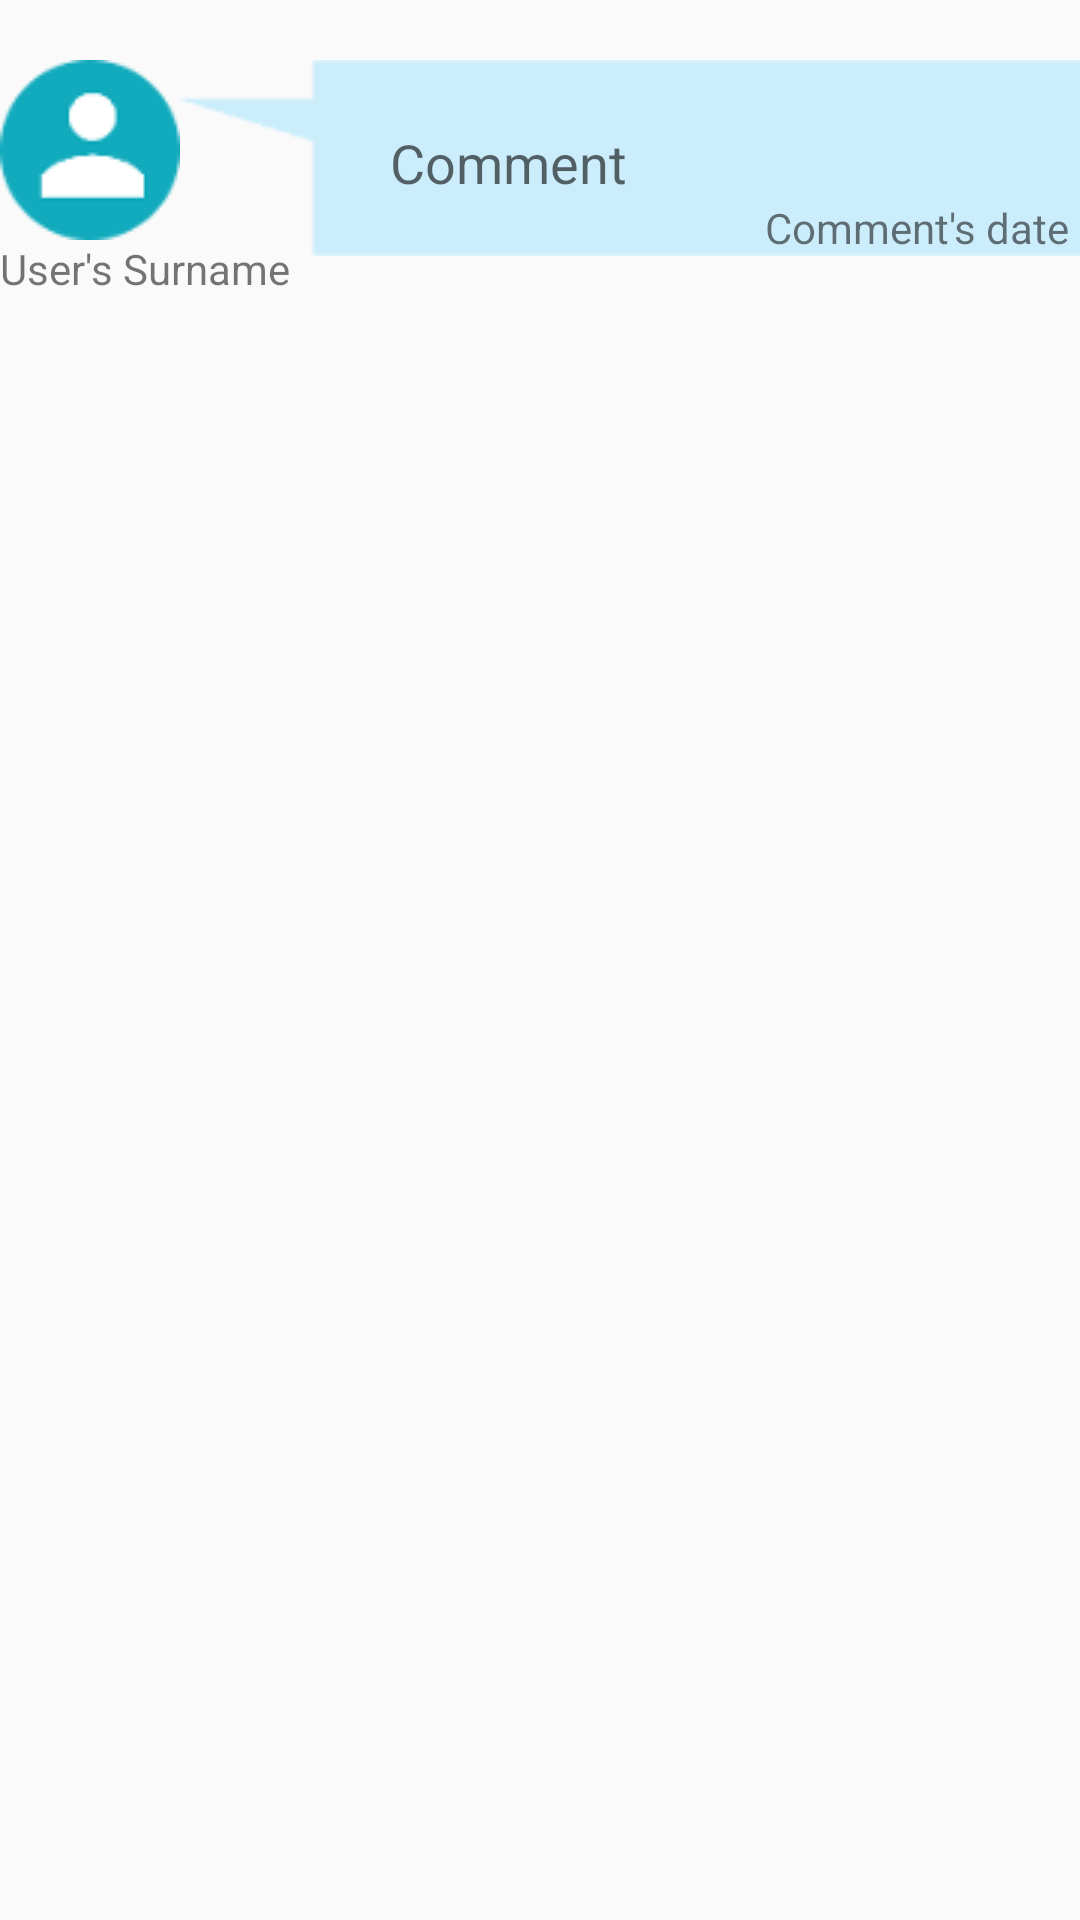

Named icons in this screenshot (1080px×1920px) and their centers, (x=x, y=y):
imageicone: (x=90, y=150)
